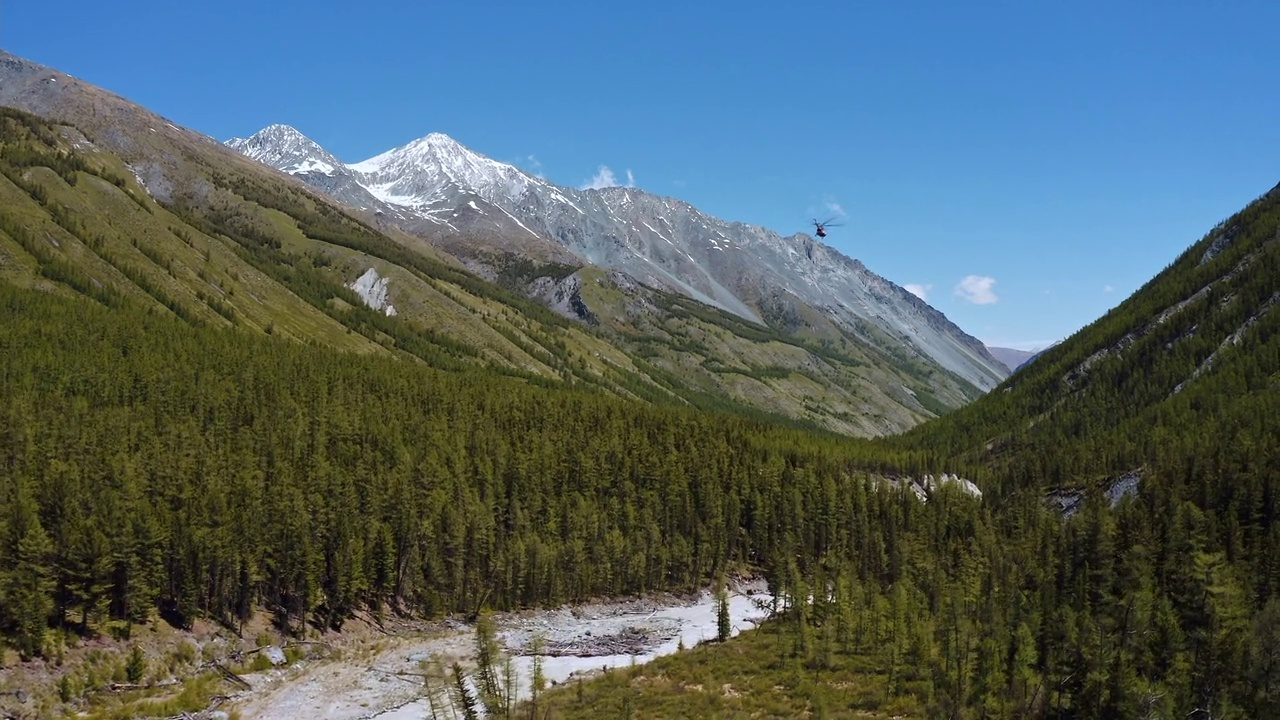heli: (806, 217, 842, 239)
